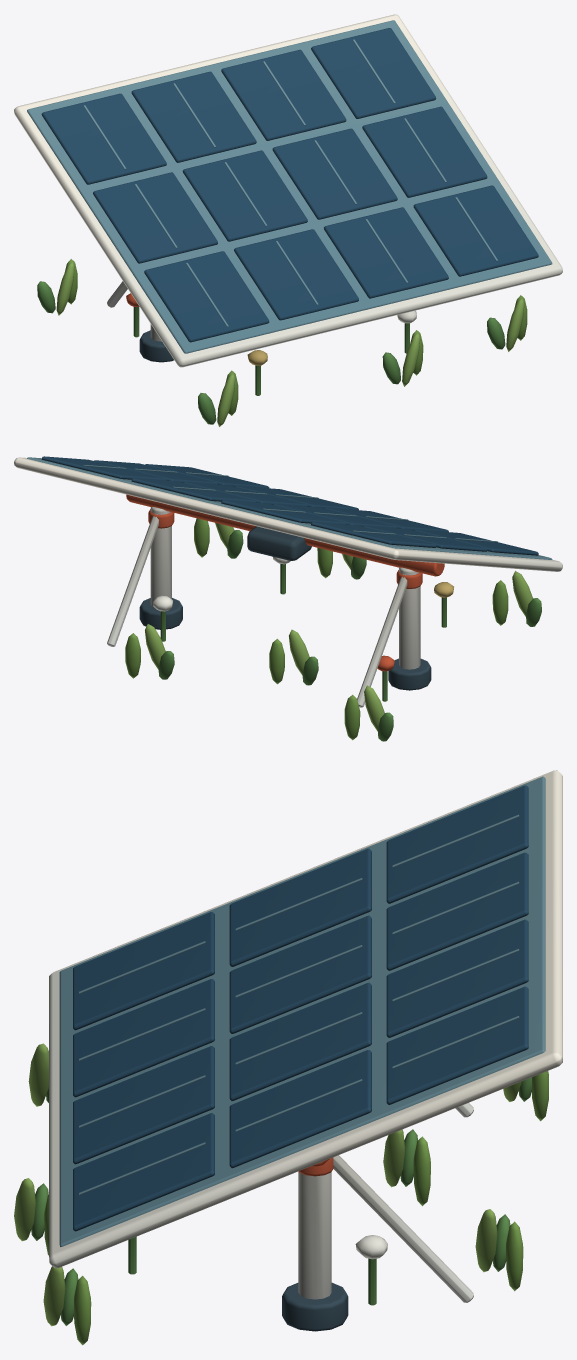
The model's file is solar_panel.glb.
3 renders of one model, top to bottom at view 1: azimuth 30°, elevation 25°; view 2: azimuth 150°, elevation 25°; view 3: azimuth 270°, elevation 25°, orthographic. The views are drawn at different scales.
Visible parts, largest first — view 1: Solar_cell_backing, Solar_ceramic_frame, Solar_cell.002, Solar_cell.007, Solar_cell.008, Solar_cell.010, Solar_cell.011, Solar_cell, Solar_cell.001, Solar_cell.004, Solar_cell.003, Solar_cell.005 (+7 smaller); view 2: Solar_ceramic_frame, Solar_copper_rail, Solar_cell_backing, Solar_ceramic_post, Solar_ceramic_post.001, Solar_junction_box, Solar_post_brace.001, Solar_post_brace, Solar_cell.002, Solar_cell.005, Solar_cell.011, Solar_cell.008 (+25 smaller); view 3: Solar_cell_backing, Solar_ceramic_frame, Solar_cell.005, Solar_cell.001, Solar_cell.008, Solar_cell.011, Solar_cell.010, Solar_cell.002, Solar_cell.004, Solar_cell.007, Solar_cell.009, Solar_cell.006 (+14 smaller).
Part boxes in pixels (<box>): Solar_cell_backing: <box>27,20,552,353</box>; Solar_ceramic_frame: <box>14,14,562,367</box>; Solar_cell.002: <box>41,93,166,184</box>; Solar_cell.007: <box>272,128,397,219</box>; Solar_cell.008: <box>221,49,346,140</box>; Solar_cell.010: <box>362,106,487,197</box>; Solar_cell.011: <box>311,28,436,118</box>; Solar_cell: <box>144,251,269,342</box>; Solar_cell.001: <box>93,172,217,263</box>; Solar_cell.004: <box>182,150,307,241</box>; Solar_cell.003: <box>234,229,358,320</box>; Solar_cell.005: <box>131,71,256,162</box>; Solar_ceramic_frame: <box>14,457,562,571</box>; Solar_copper_rail: <box>126,494,444,576</box>; Solar_cell_backing: <box>27,457,552,559</box>; Solar_ceramic_post: <box>399,567,420,669</box>; Solar_ceramic_post.001: <box>150,507,171,607</box>; Solar_junction_box: <box>247,526,311,560</box>; Solar_post_brace.001: <box>107,513,158,646</box>; Solar_post_brace: <box>357,574,407,707</box>; Solar_cell.002: <box>311,522,436,547</box>; Solar_cell.005: <box>221,500,346,524</box>; Solar_cell.011: <box>41,456,166,480</box>; Solar_cell.008: <box>131,478,256,502</box>; Solar_cell_backing: <box>59,776,545,1246</box>; Solar_ceramic_frame: <box>49,770,562,1268</box>; Solar_cell.005: <box>386,852,528,970</box>; Solar_cell.001: <box>229,848,371,966</box>; Solar_cell.008: <box>386,919,528,1037</box>; Solar_cell.011: <box>386,986,528,1104</box>; Solar_cell.010: <box>229,1050,371,1168</box>; Solar_cell.002: <box>386,785,528,903</box>; Solar_cell.004: <box>229,915,371,1033</box>; Solar_cell.007: <box>229,982,371,1100</box>; Solar_cell.009: <box>73,1113,214,1231</box>; Solar_cell.006: <box>73,1046,214,1164</box>.
Size of the model in its own units: 1.86 by 0.9497 by 1.5.
